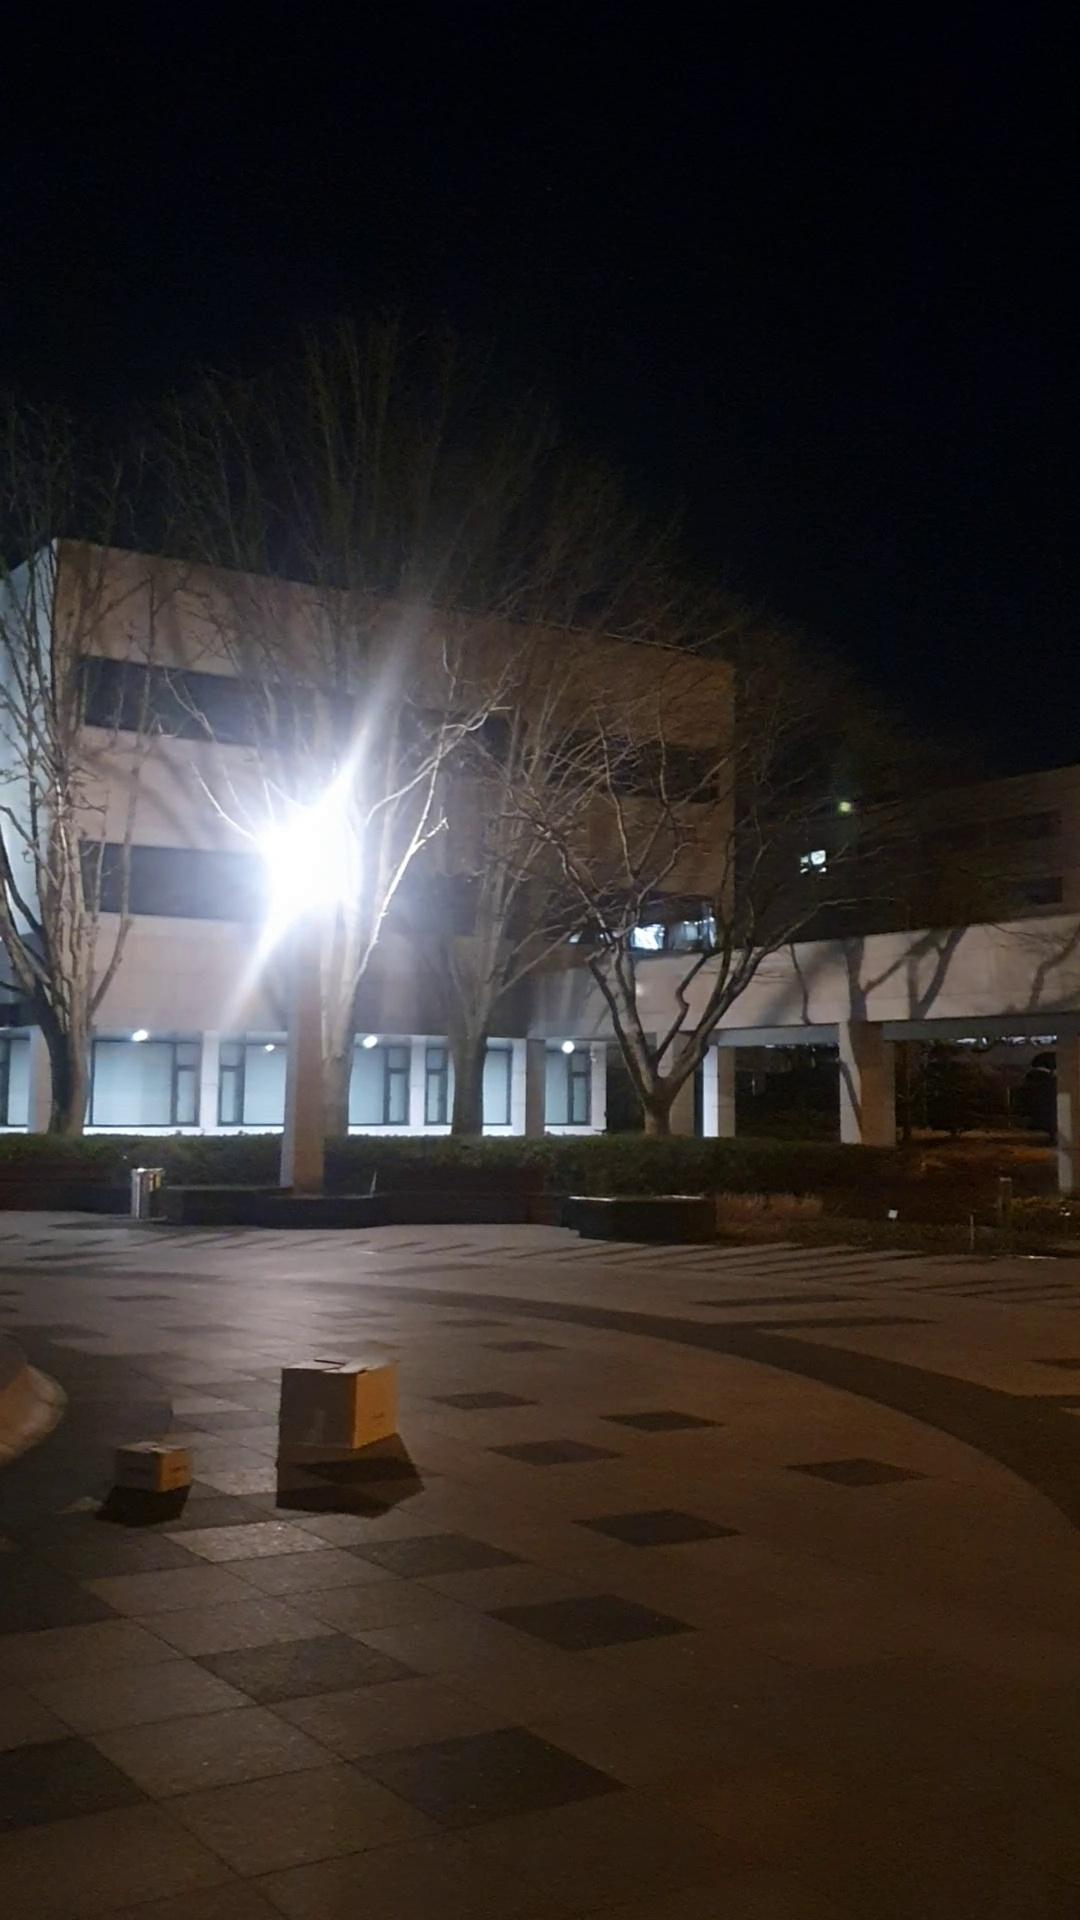Box: (276, 1342, 404, 1470), (121, 1425, 200, 1501)
